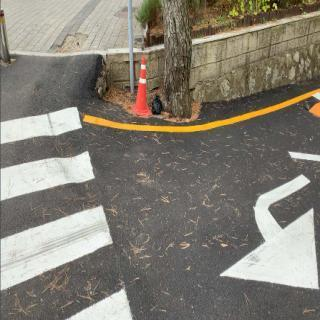Garbage: (150, 91, 163, 115)
